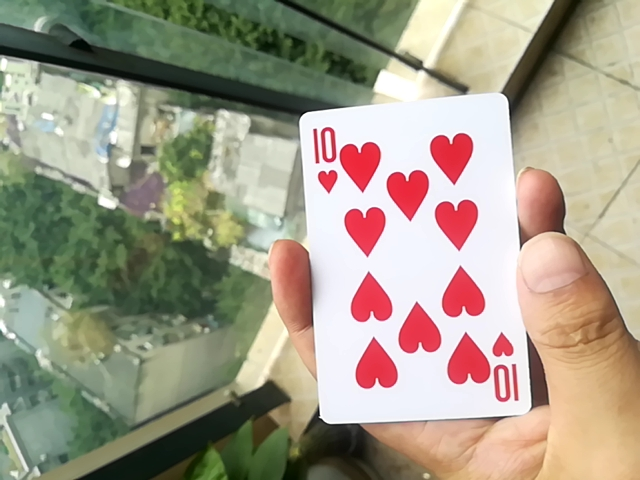hx 10: (297, 90, 529, 427)
